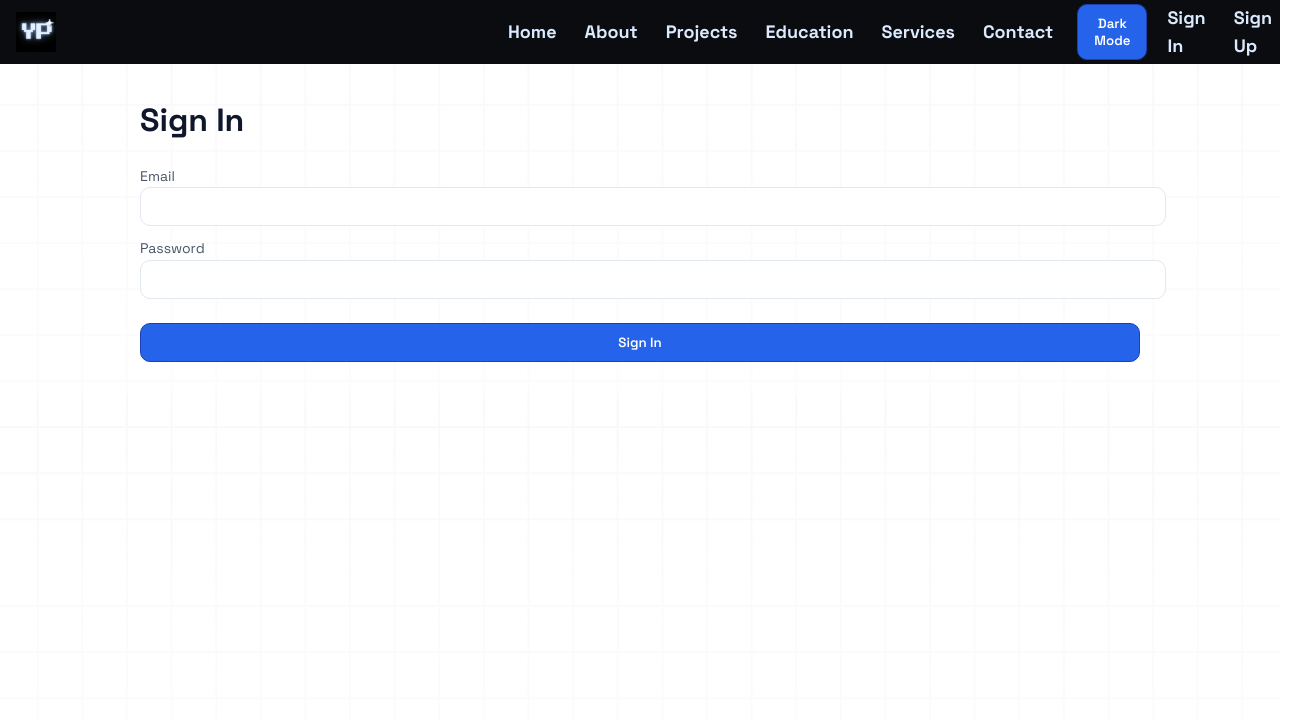
Test: Portfolio basic E2E › stubs sign in and reveals Admin link
Type "admin@example.com" into the field labelled "Email" at (653, 207), box [140, 187, 1166, 226]
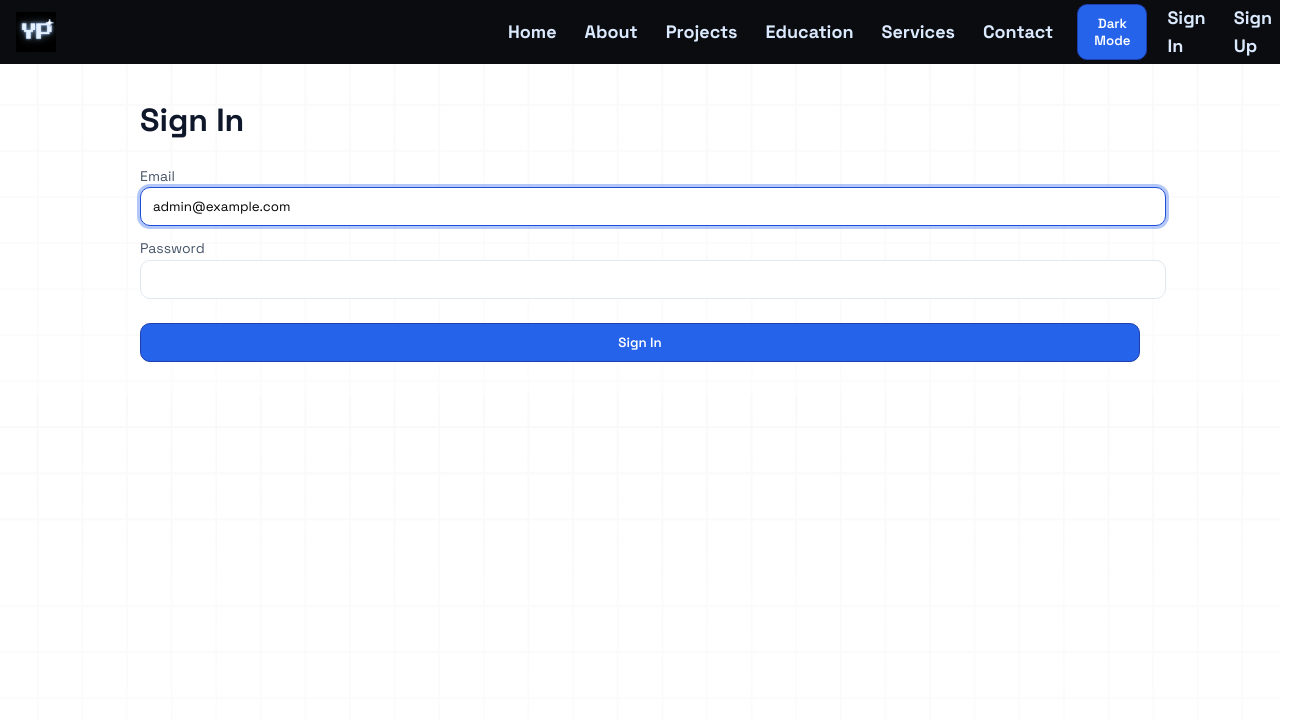
Type "password123" into the password field labelled "Password" at (653, 280), box [140, 260, 1166, 299]
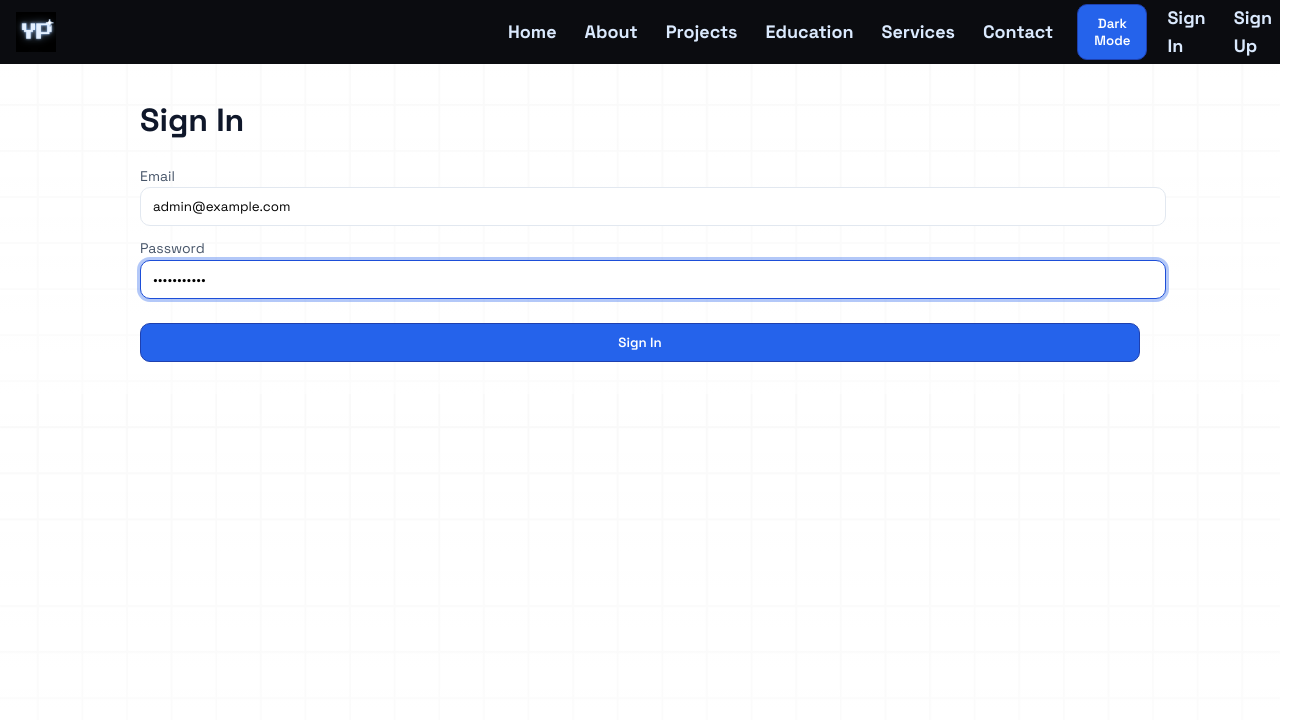
Click the button "Sign In" at (640, 343), box [140, 323, 1140, 362]
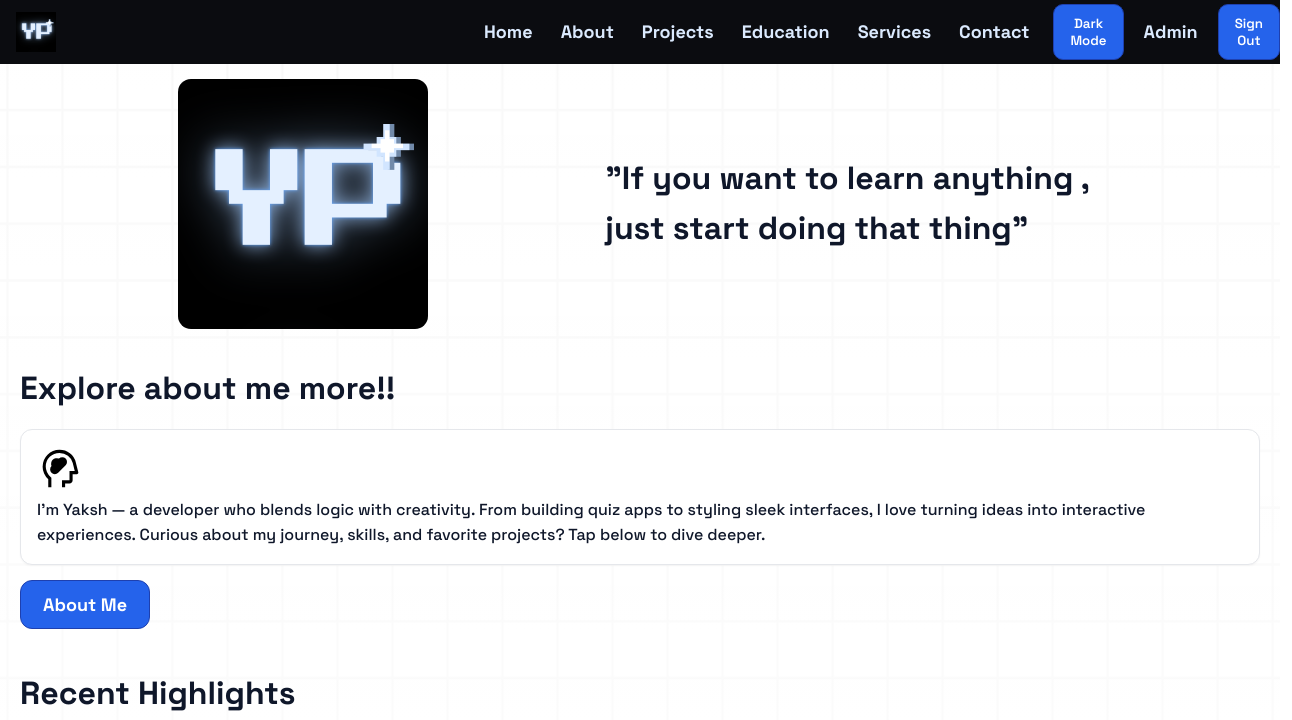
Expected: the link "Admin" is shown, [1144, 18, 1198, 46]
